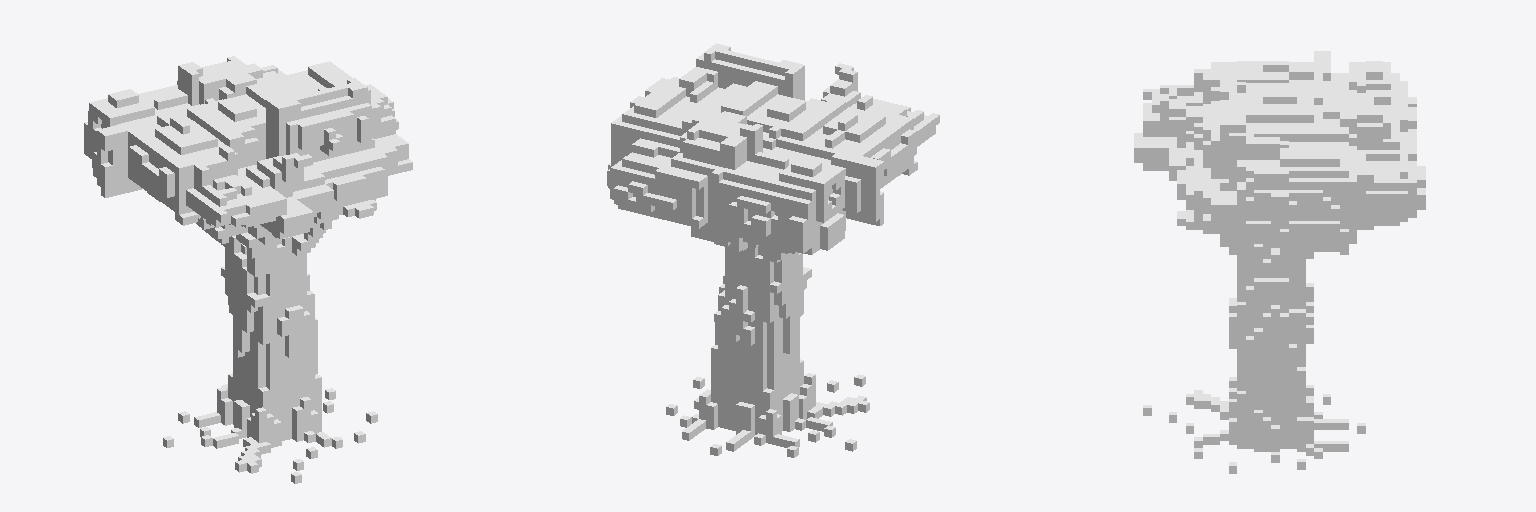
Rendered from arbol1.obj.
3 views of the same model, side by side, from view 1: azimuth 30°, elevation 25°; view 2: azimuth 150°, elevation 25°; view 3: azimuth 270°, elevation 25° (orthographic).
Parts seen in each view (by area): view 1: Tree2; view 2: Tree2; view 3: Tree2.
Part boxes in pixels (x1,y1,x2,y2): Tree2: (84,56,412,483); Tree2: (607,43,939,457); Tree2: (1134,51,1425,473).
Size of the model in its own units: 3.6 by 4.4 by 3.4.